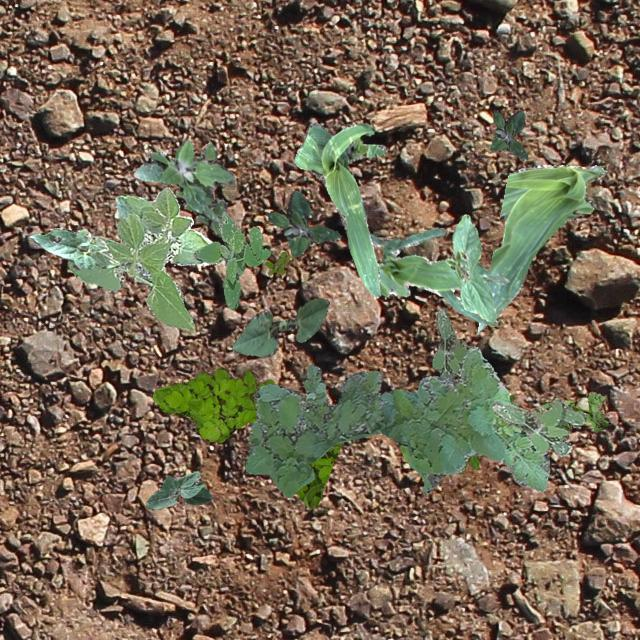crop: (66, 186, 218, 330), (477, 164, 606, 332), (292, 121, 384, 298), (368, 227, 508, 326), (230, 298, 328, 356), (444, 214, 496, 322), (28, 228, 118, 268), (144, 469, 212, 508)
weed: (244, 346, 548, 496), (152, 366, 342, 506), (132, 138, 232, 234), (192, 210, 270, 308), (492, 396, 586, 456), (266, 190, 340, 256), (458, 393, 514, 472), (540, 390, 610, 440), (430, 306, 470, 379), (489, 110, 526, 158), (264, 250, 288, 274)
